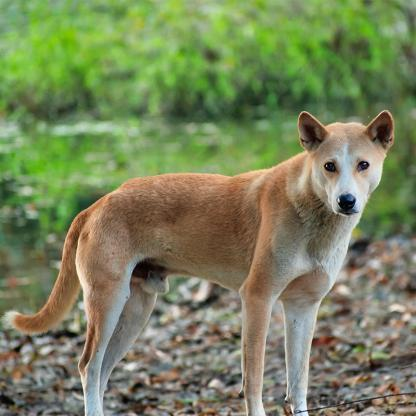dog: (46, 99, 388, 416)
